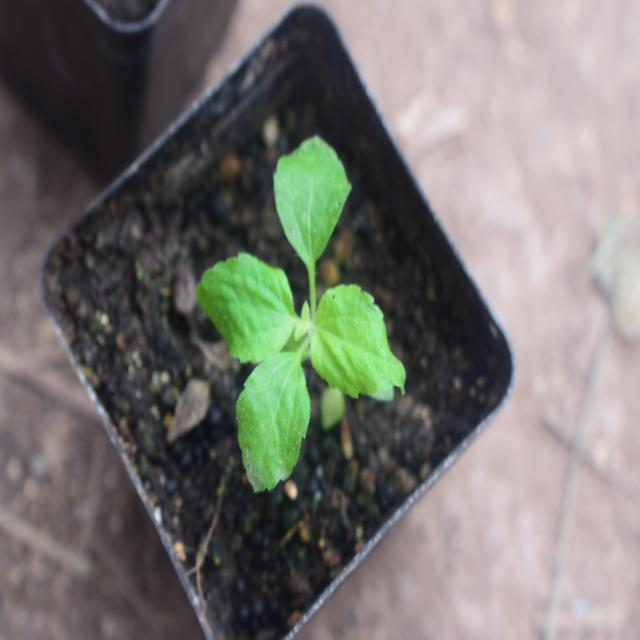billygoat_weed: (199, 146, 416, 484)
